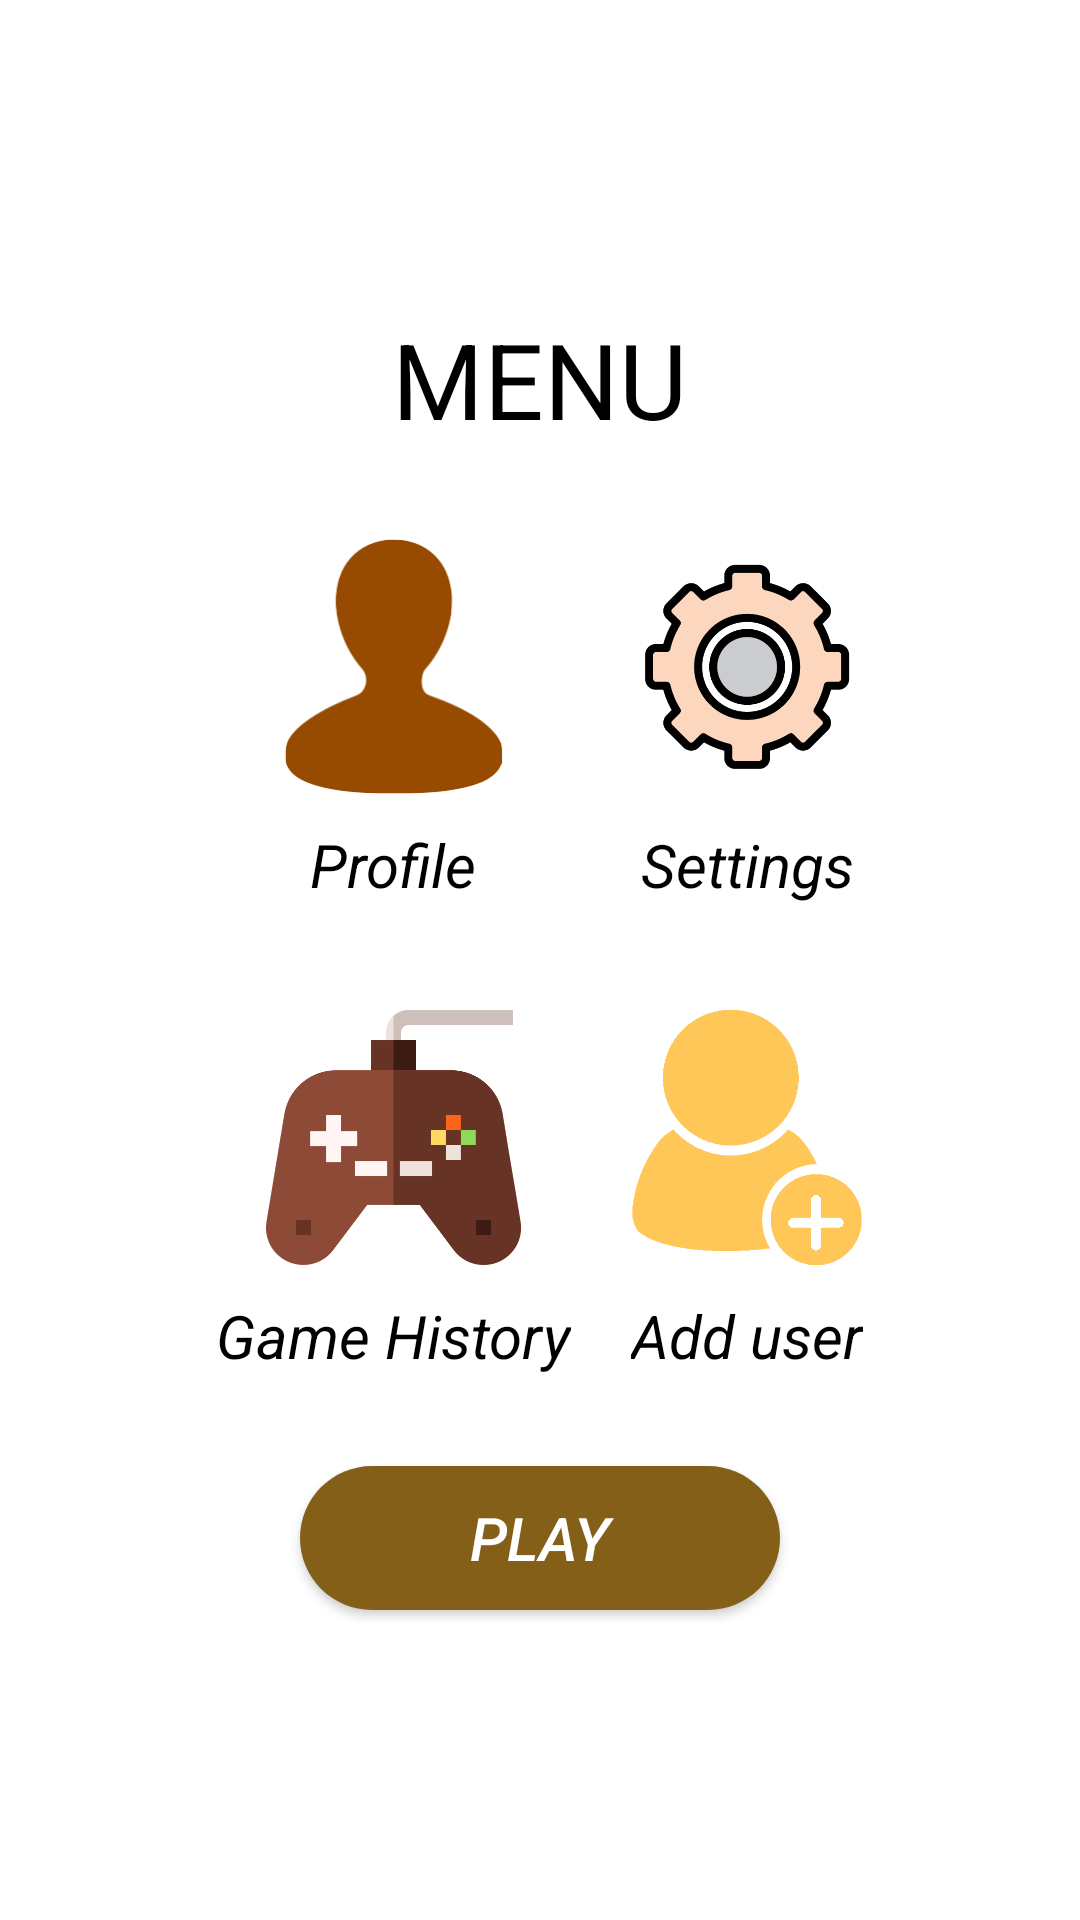

Named icons in this screenshot (1080 × 1920) and their centers, (x=x, y=y):
mando: (x=393, y=1137)
useeeer: (x=393, y=666)
